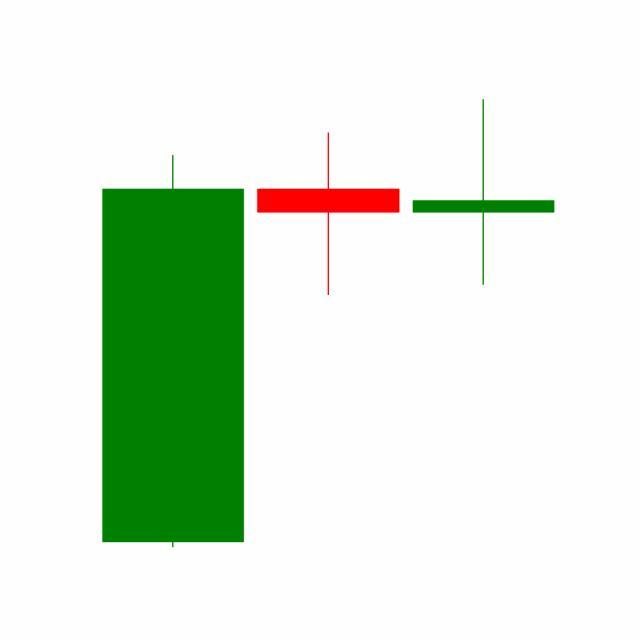Spinning Top: (250, 131, 407, 298)
